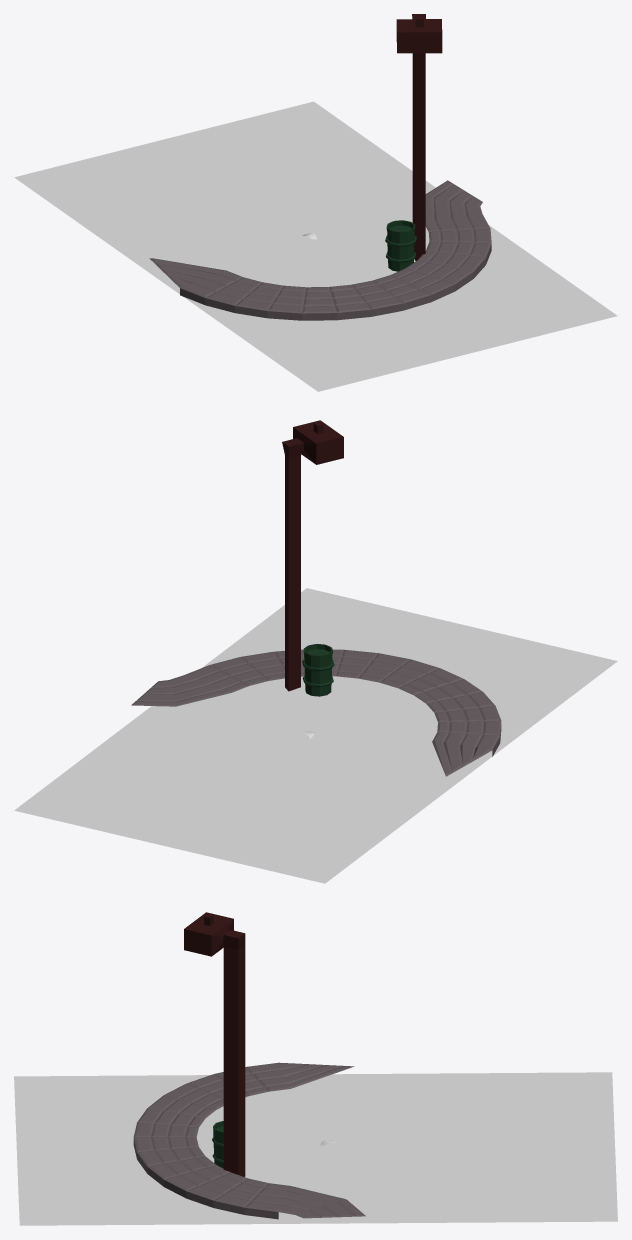
File: ParkEnvironment_v2.glb
3 renders of one model, top to bottom at view 1: azimuth 30°, elevation 25°; view 2: azimuth 150°, elevation 25°; view 3: azimuth 270°, elevation 25°, orthographic.
Visible parts, largest first — view 1: grass, pathway, lampPost, Garbage; view 2: grass, pathway, lampPost, Garbage; view 3: grass, pathway, lampPost, Garbage.
Part boxes in pixels (x1,y1,x2,y2): grass: [14, 101, 617, 391]; pathway: [149, 180, 491, 320]; lampPost: [396, 14, 442, 260]; Garbage: [385, 220, 416, 271]; grass: [14, 588, 617, 883]; pathway: [131, 649, 501, 776]; lampPost: [282, 420, 343, 691]; Garbage: [302, 644, 334, 696]; grass: [14, 1072, 617, 1225]; pathway: [133, 1062, 365, 1219]; lampPost: [184, 912, 245, 1176]; Garbage: [212, 1121, 223, 1168].
Size of the model in its own units: 0.2217 by 0.1709 by 0.3624.
